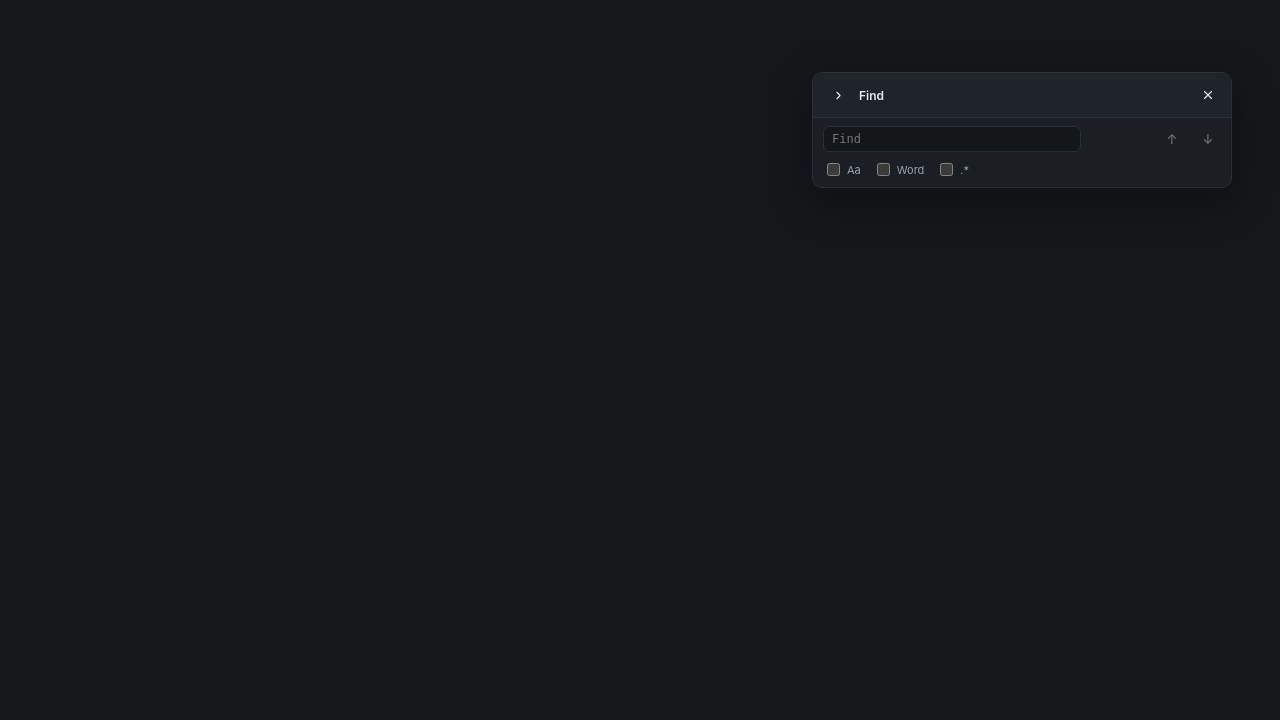
FindReplaceDialog › says so when a query matches nothing
The image size is (1280, 720).
In the field with test id "find-replace-query": (952, 139) [823,126,1081,152], type "zzz"
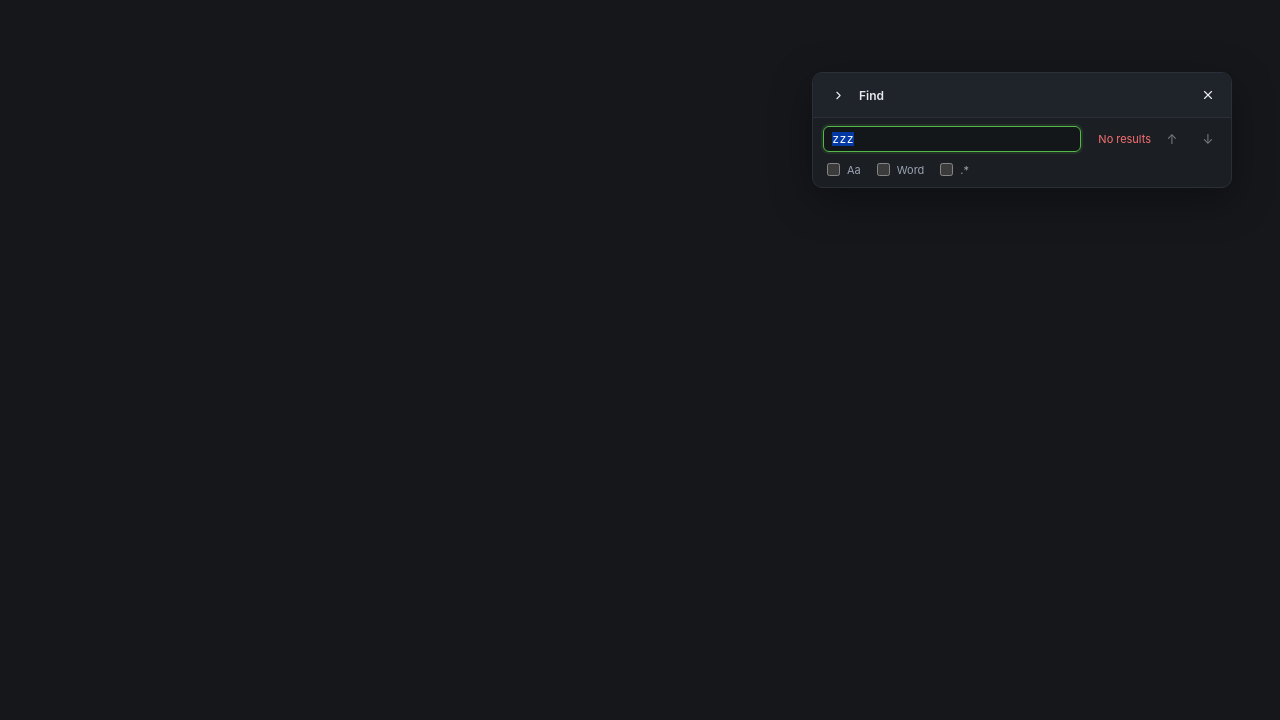
Now the text with test id "find-replace-count" reads "No results", box [1098,132,1151,146]
